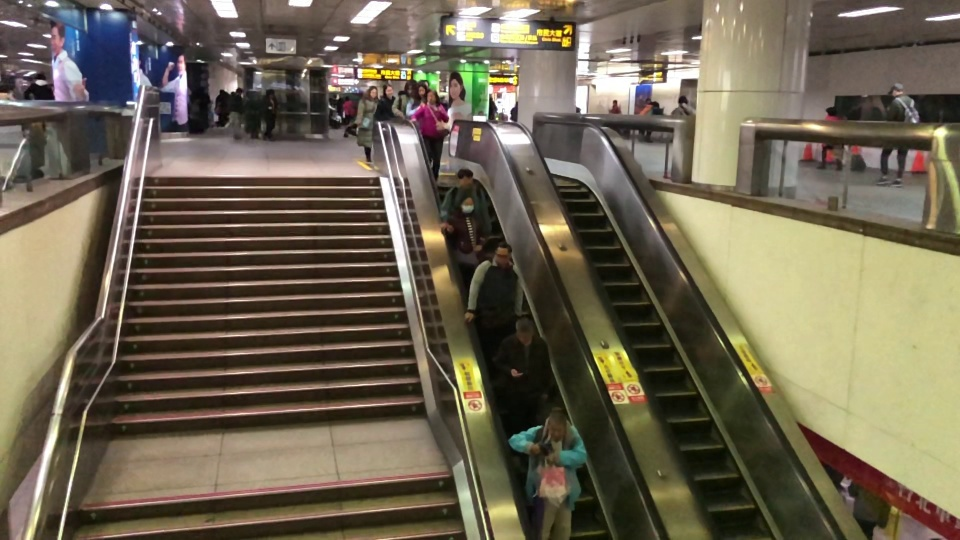person_head: (546, 407, 568, 445), (514, 316, 535, 347), (493, 241, 513, 268), (457, 194, 475, 214), (455, 168, 473, 185), (888, 83, 904, 99), (404, 79, 417, 98), (425, 90, 440, 104), (381, 83, 394, 98), (415, 80, 427, 96), (366, 85, 378, 99), (825, 105, 838, 117), (32, 72, 47, 81), (677, 95, 688, 104), (234, 86, 244, 95), (265, 89, 275, 98), (611, 99, 617, 106)
person_vbox: (506, 407, 587, 522), (493, 315, 552, 436), (462, 241, 523, 358), (874, 81, 920, 189), (441, 195, 489, 285), (410, 88, 449, 184), (438, 168, 491, 236), (816, 106, 846, 172), (354, 84, 378, 163), (391, 80, 417, 119), (227, 87, 245, 138), (24, 72, 55, 100), (405, 82, 429, 116), (263, 88, 278, 141), (374, 84, 394, 120), (671, 94, 695, 116), (608, 100, 622, 114)
